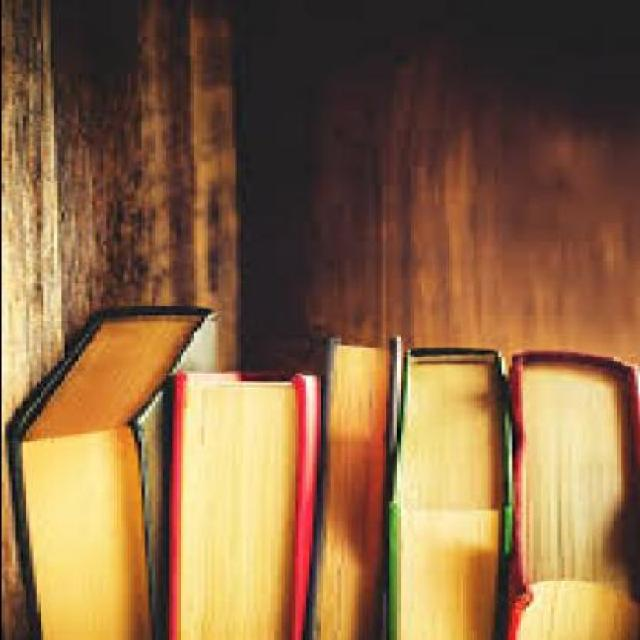PAPER: (3, 304, 220, 638), (171, 368, 318, 638), (506, 347, 638, 640), (392, 345, 518, 638), (308, 334, 406, 638)
